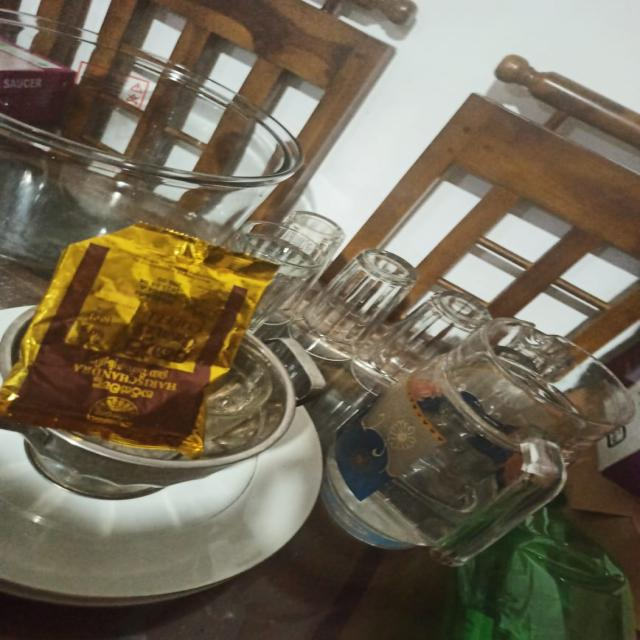Harischandra Coffee: (10, 216, 244, 456)
